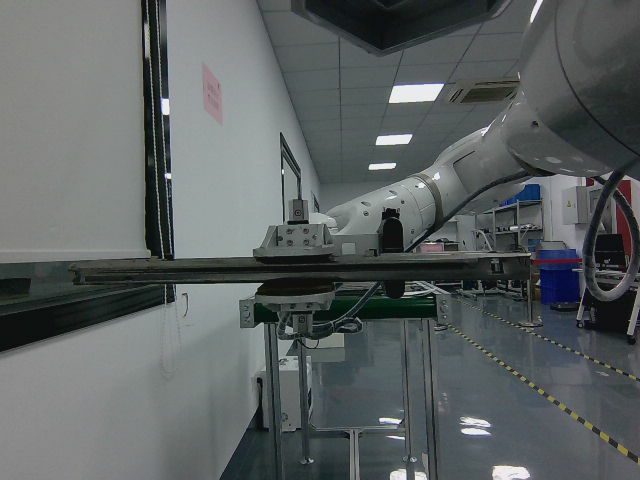up: (67, 250, 532, 288)
